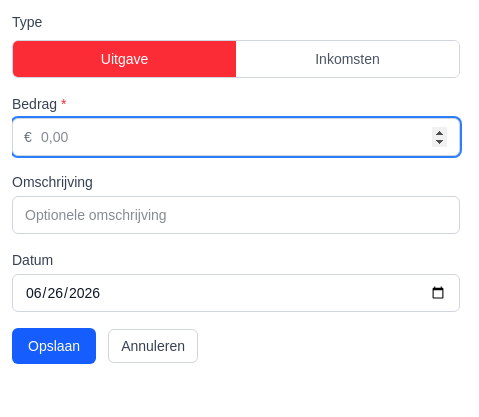
TransactionForm › validation › shows an error when the form is submitted with amount of zero
Step 1. Type "0" into the number field → (236, 137), box [12,118,460,156]
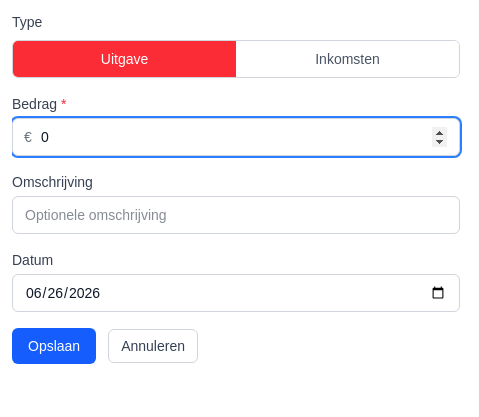
Step 2. Submit the form
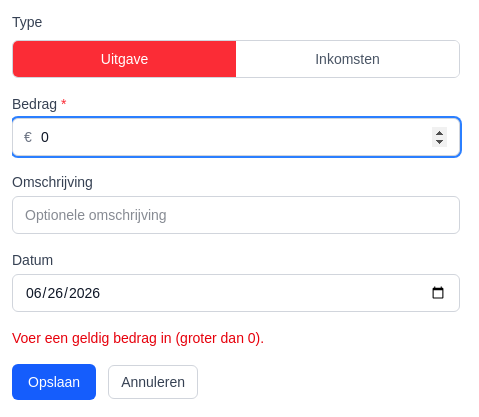
Now the text "Voer een geldig bedrag in (groter dan 0)." is shown, box [12,330,264,346]
